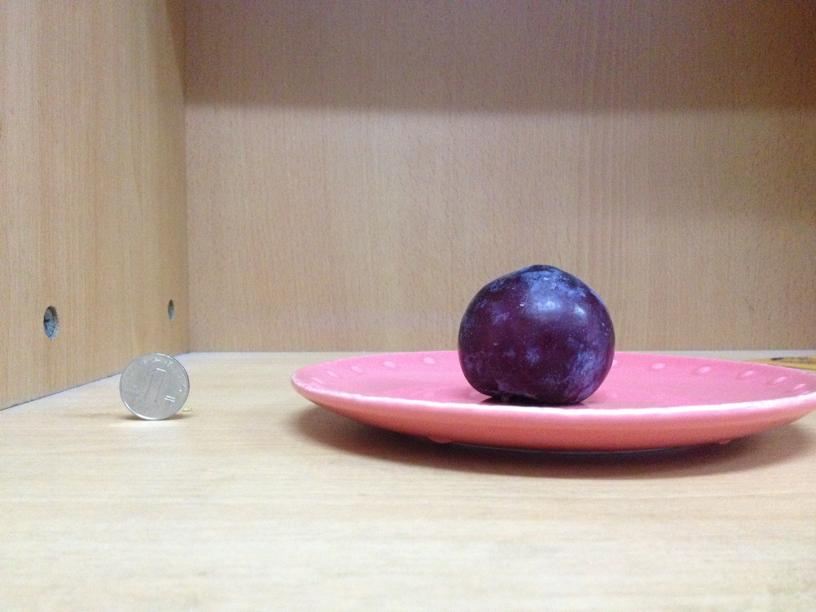coin: (120, 355, 190, 419)
plum: (454, 261, 615, 402)
